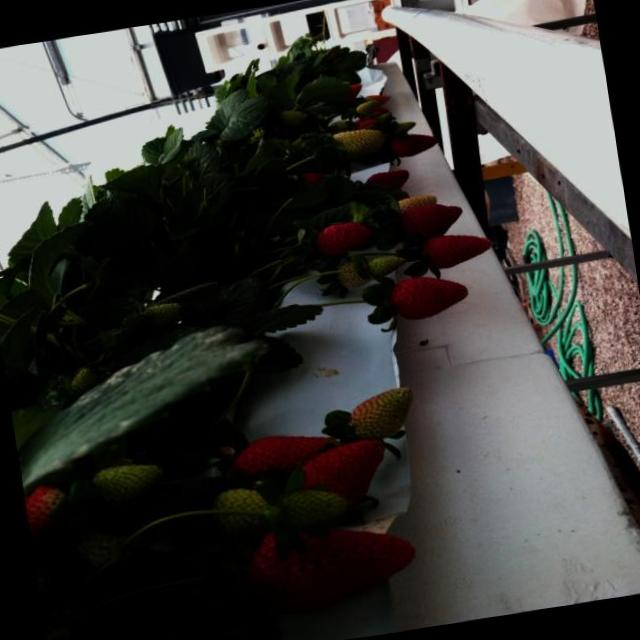ripe: (244, 510, 426, 622), (282, 429, 392, 516), (210, 424, 340, 496), (386, 264, 478, 324), (415, 230, 494, 271), (394, 200, 454, 246), (309, 217, 374, 255), (388, 128, 442, 158), (364, 166, 410, 191), (295, 170, 327, 187)
